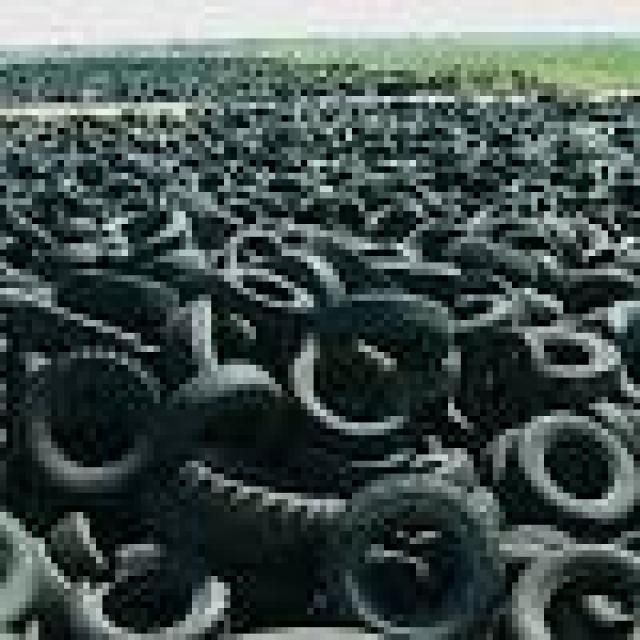Rubber -Non-Biodegradable but Recyclable-: (0, 88, 640, 640)
